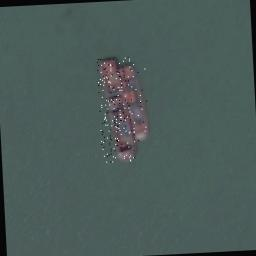boat: (96, 56, 136, 162), (117, 61, 149, 141)
